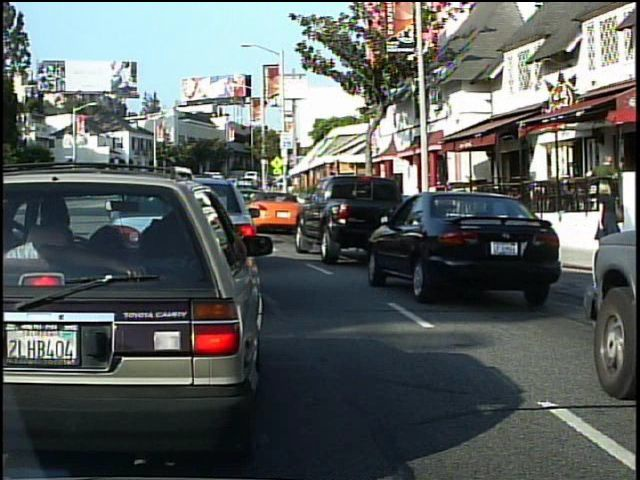person: (594, 176, 630, 258), (589, 148, 623, 232)
